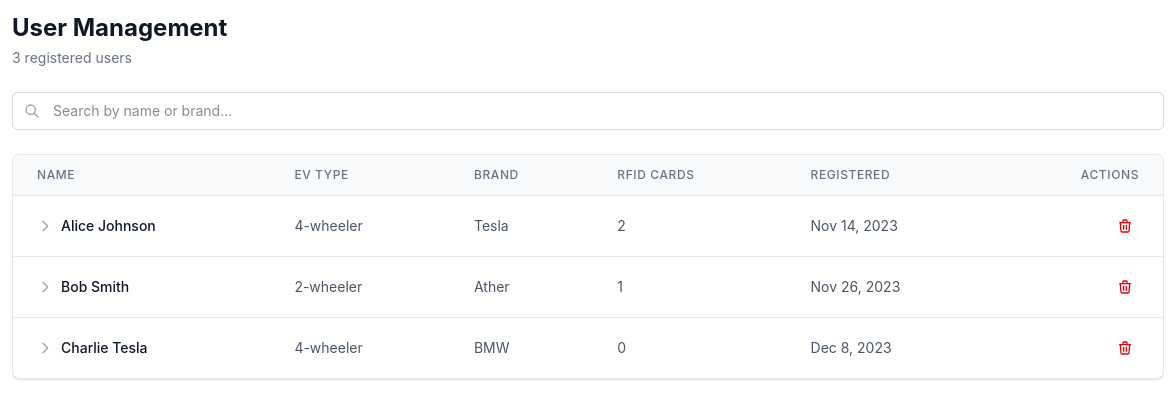
it: UserManagementPage › Search filtering › shows "No users match your search" when filter has no results
Check: the text "Alice Johnson" is shown, box x1=37 y1=217 x2=156 y2=234
Type "nonexistent" into the field with placeholder "Search by name or brand...".
click(588, 111); type("nonexistent")  # box x1=12 y1=92 x2=1164 y2=130
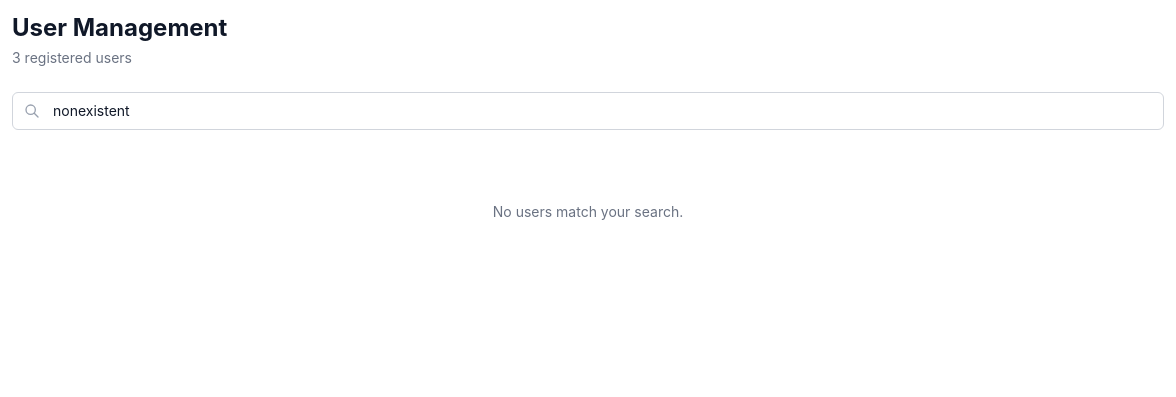
Check: the text "No users match your search." is shown, box x1=493 y1=203 x2=683 y2=220
